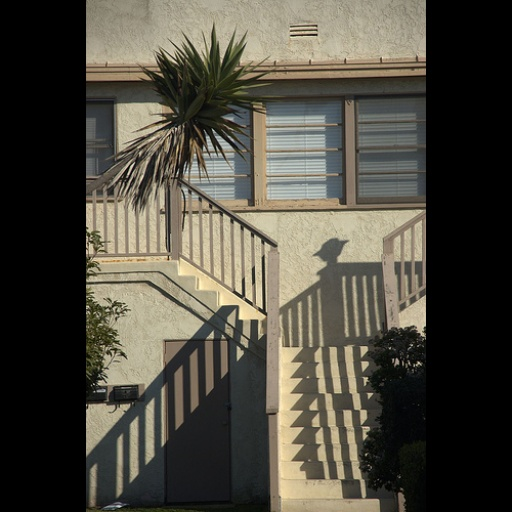Stairs: (281, 346, 398, 512)
